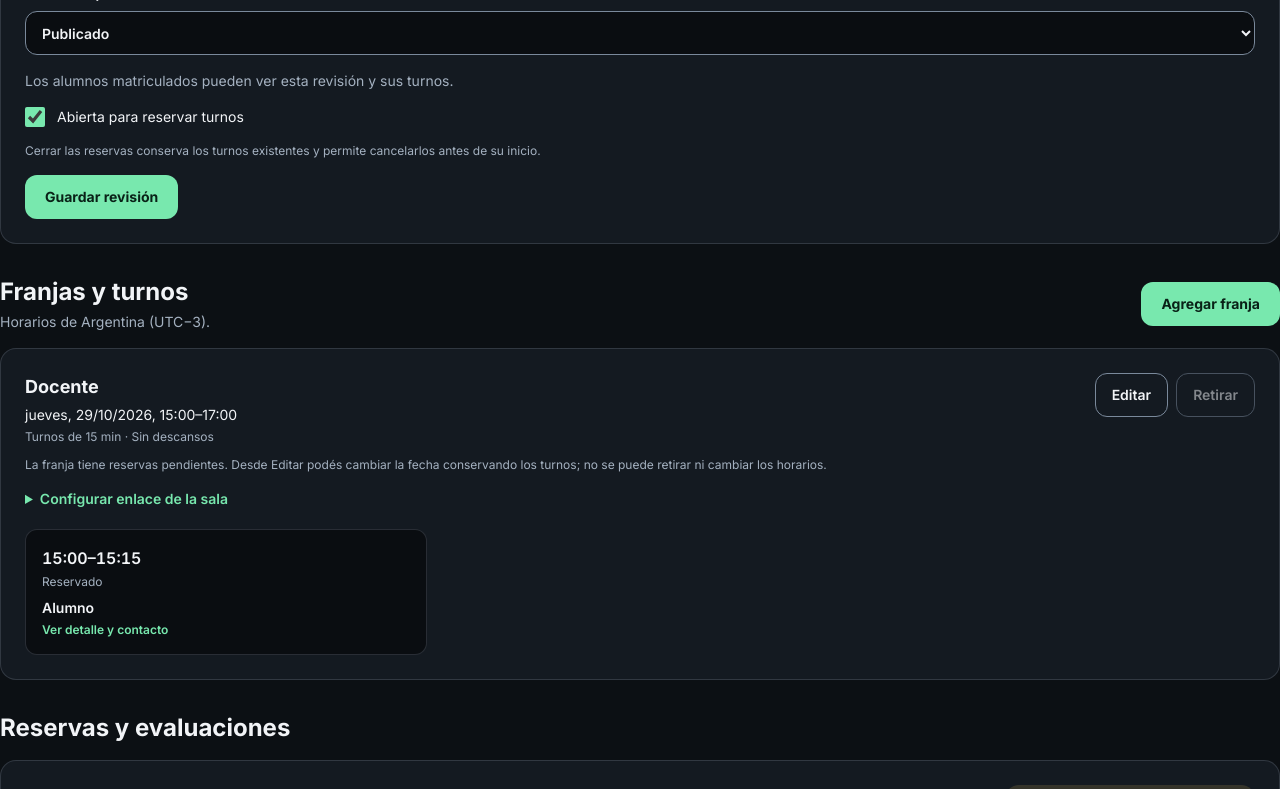
Test: resultado y notas privadas del turno › permite cambiar jueves por viernes con reservas, únicamente después de previsualizar y confirmar
(page scrolled)
Expected: the button "Retirar" is disabled, [1176,373,1255,417]
Click the button "Editar" at (1131, 395), box [1095,373,1168,417]
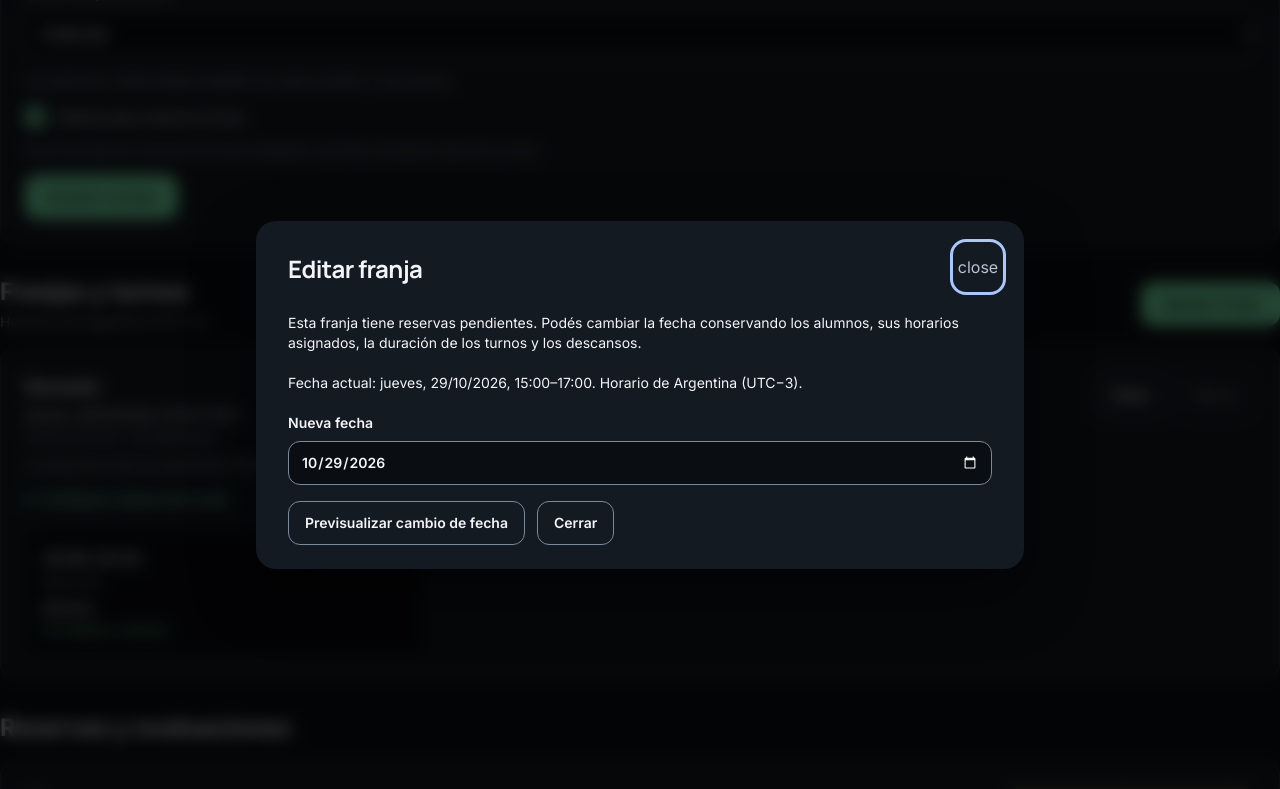
Expected: the text "Esta franja tiene reservas pendientes" is shown, [288,314,959,351]
Type "2026-10-30" into the date field labelled "Nueva fecha" at (640, 463), box [288,441,992,485]
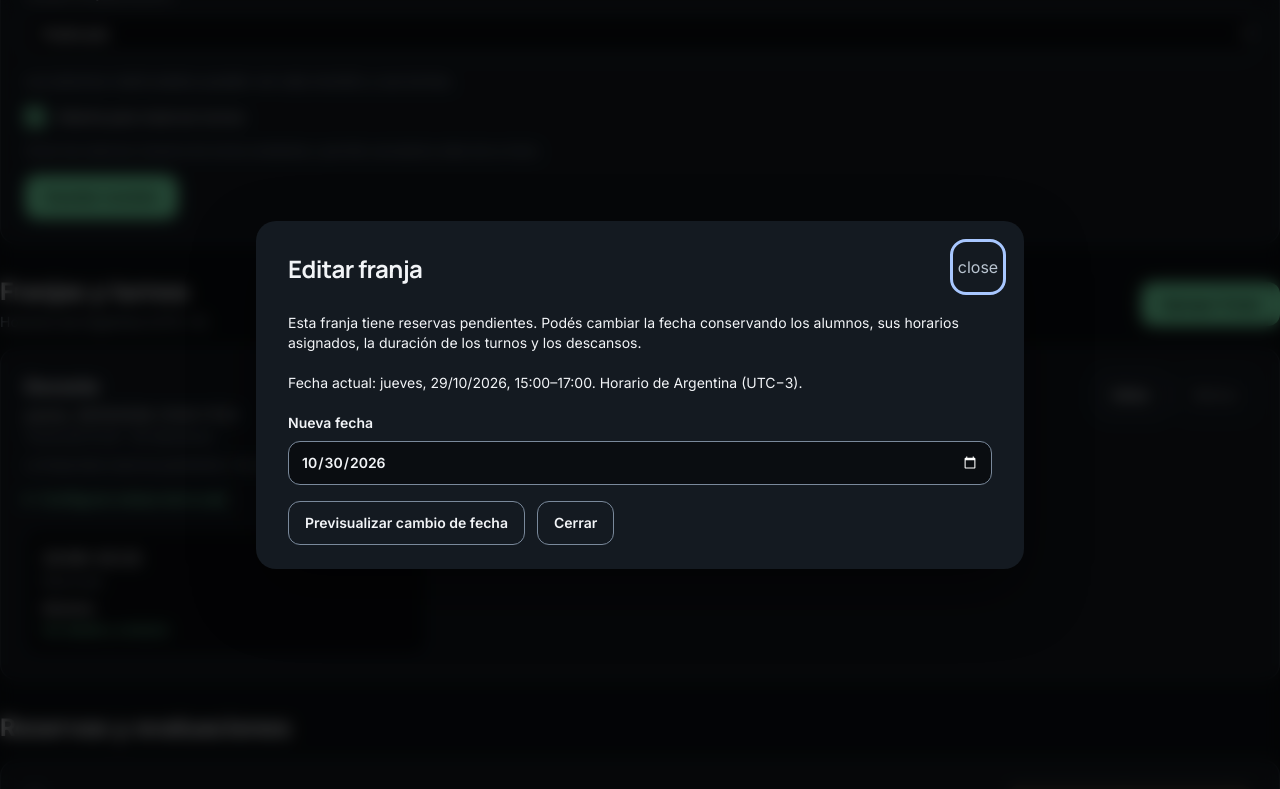
Click the button "Previsualizar cambio de fecha" at (406, 523), box [288,501,525,545]
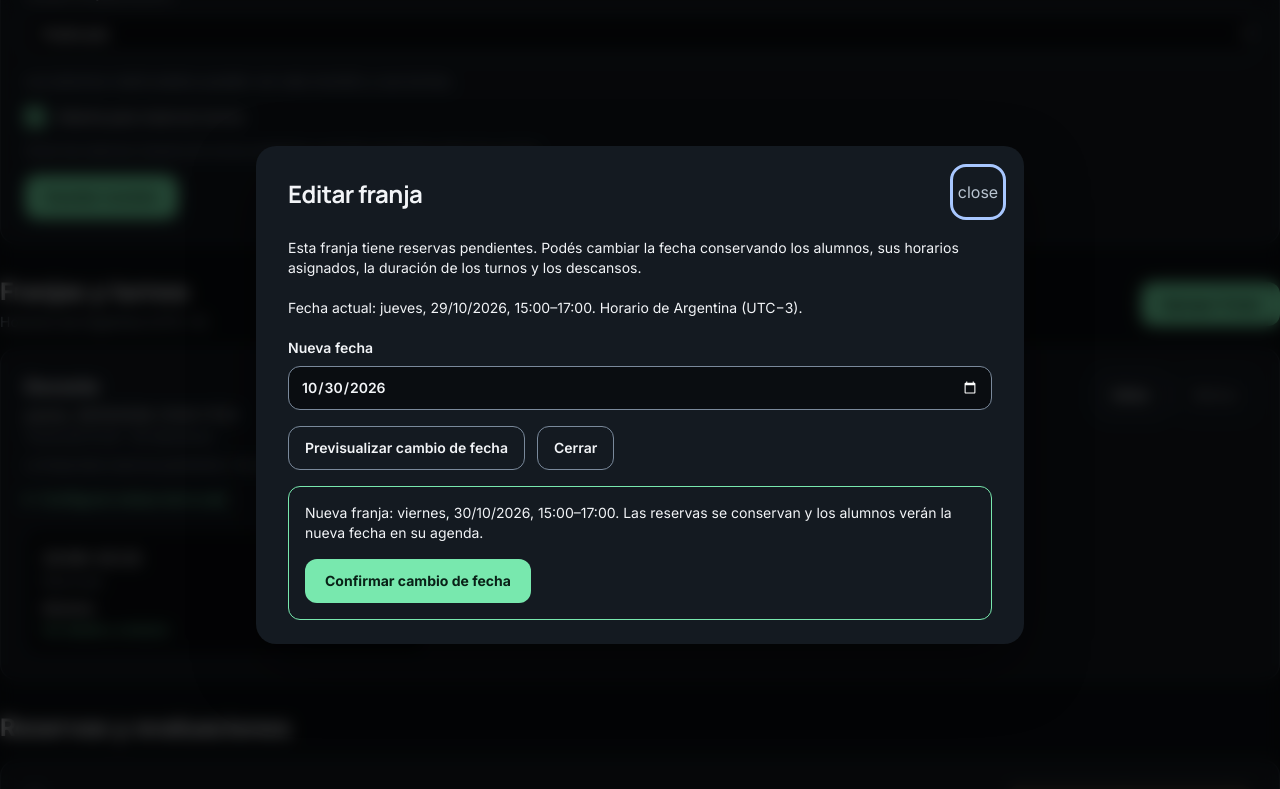
Expected: the text "viernes, 30/10/2026, 15:00–17:00" is shown, [305,503,975,543]
Click the button "Confirmar cambio de fecha" at (418, 581), box [305,559,531,603]
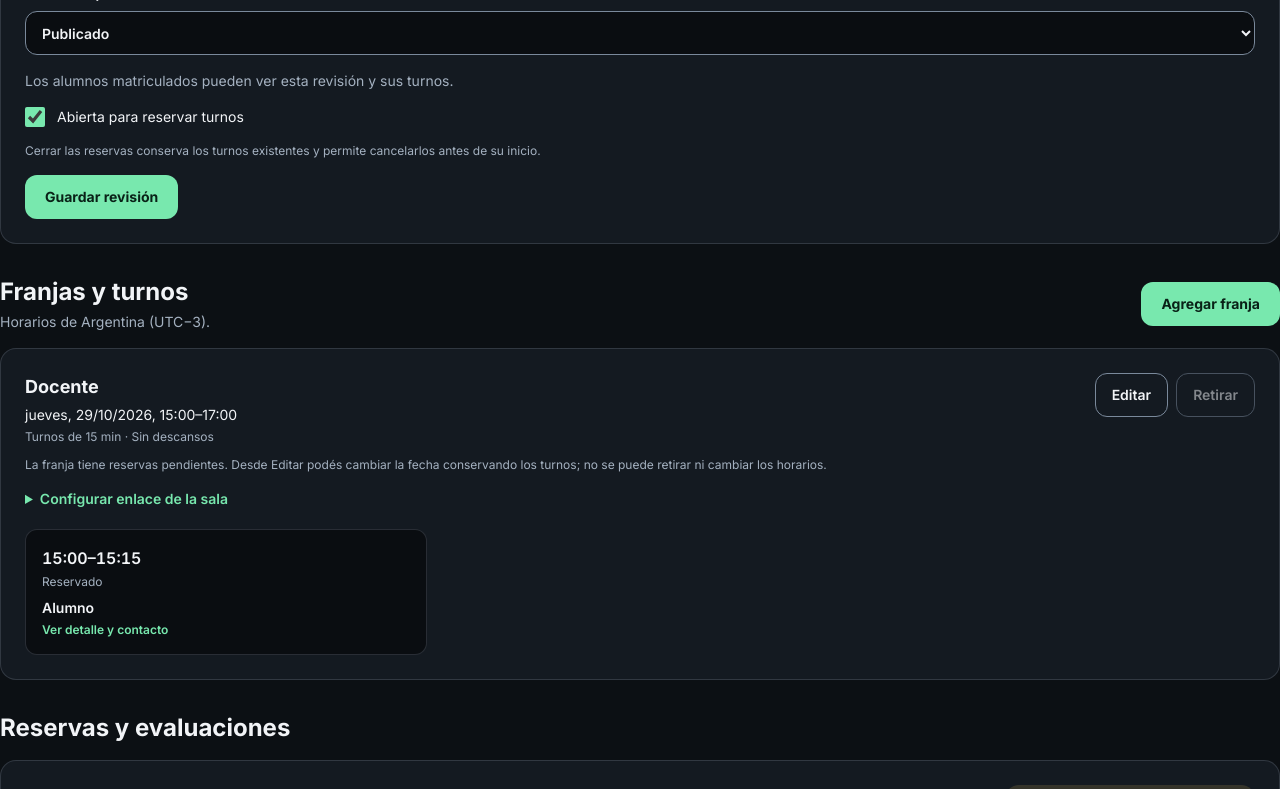
Expected: the text "La franja tiene reservas pendientes. Desde Editar podés cambiar la fecha conservando los turnos; no se puede retirar ni " is shown, [25,457,827,472]
Expected: the dialog is gone
